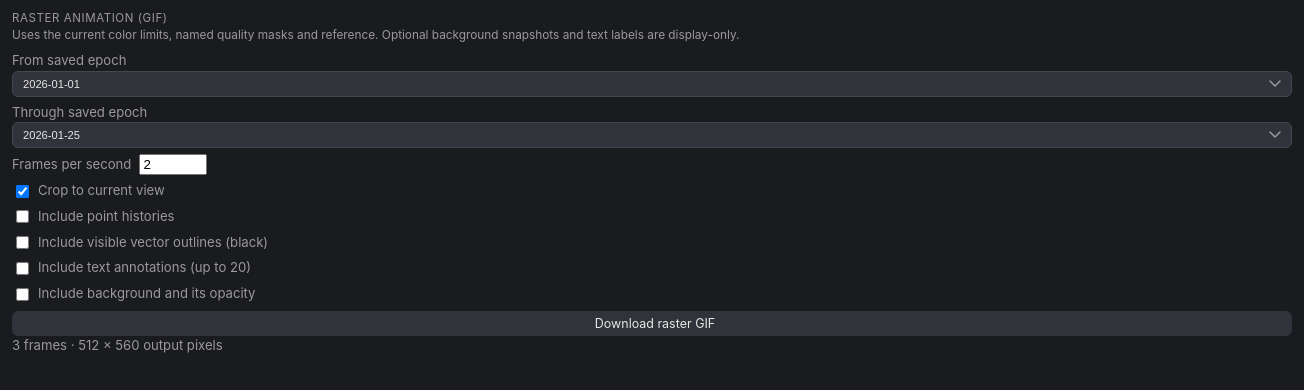
shows elapsed rendering time and Cancel aborts the download
This screenshot has width=1304, height=390.
Click the button "Download raster GIF" at (652, 323), box [12,311,1292,336]
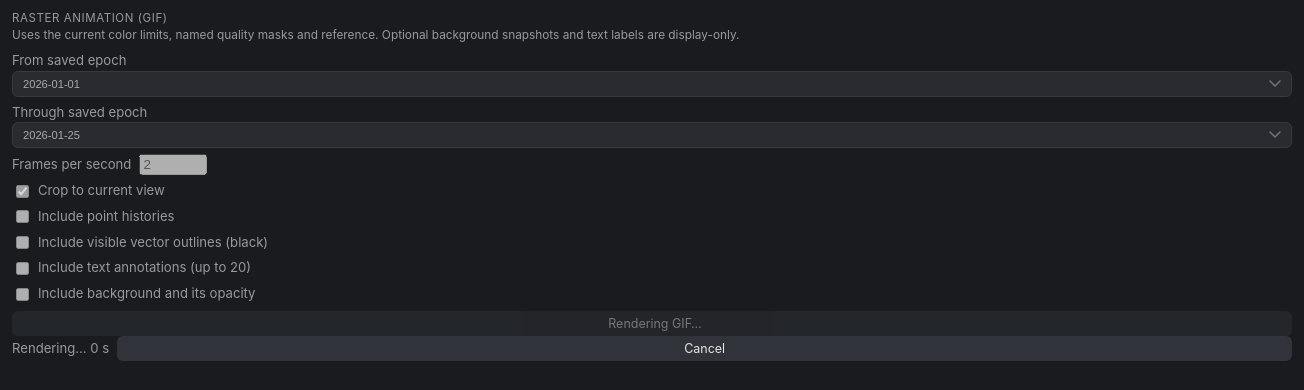
Result: the text "Rendering… 0 s" is shown at [12,338,109,358]
Click the button "Cancel" at (705, 348), box [117,336,1292,361]
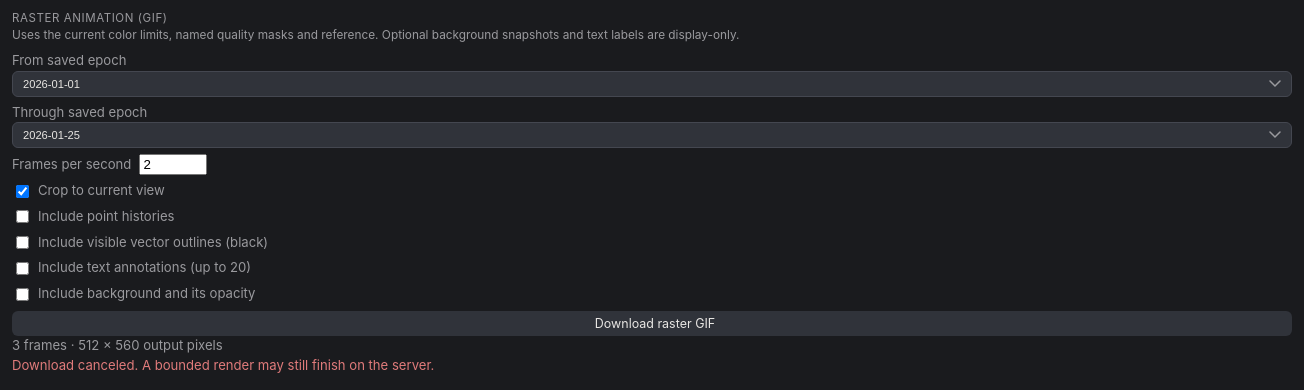
Result: the message shows "canceled" at [12,356,434,372]
